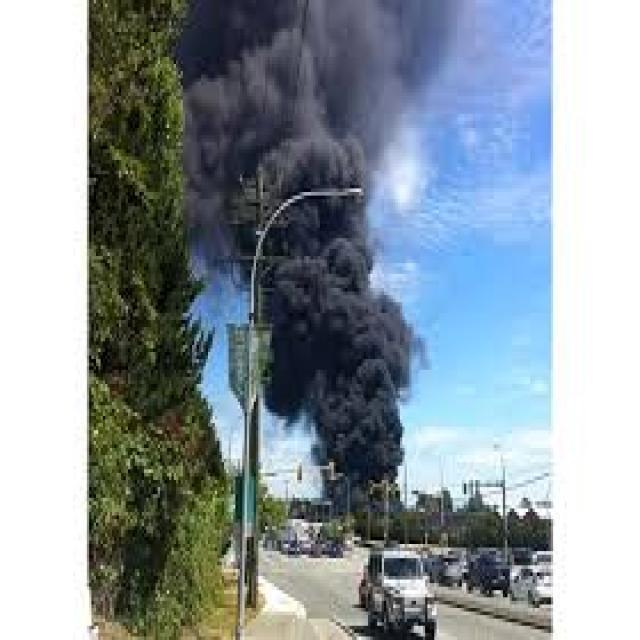Smoke: (178, 0, 473, 489)
